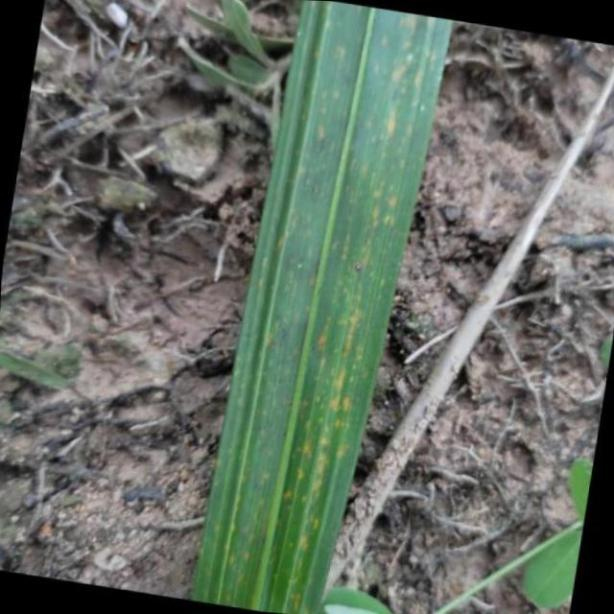Kalium: (197, 0, 452, 614)
